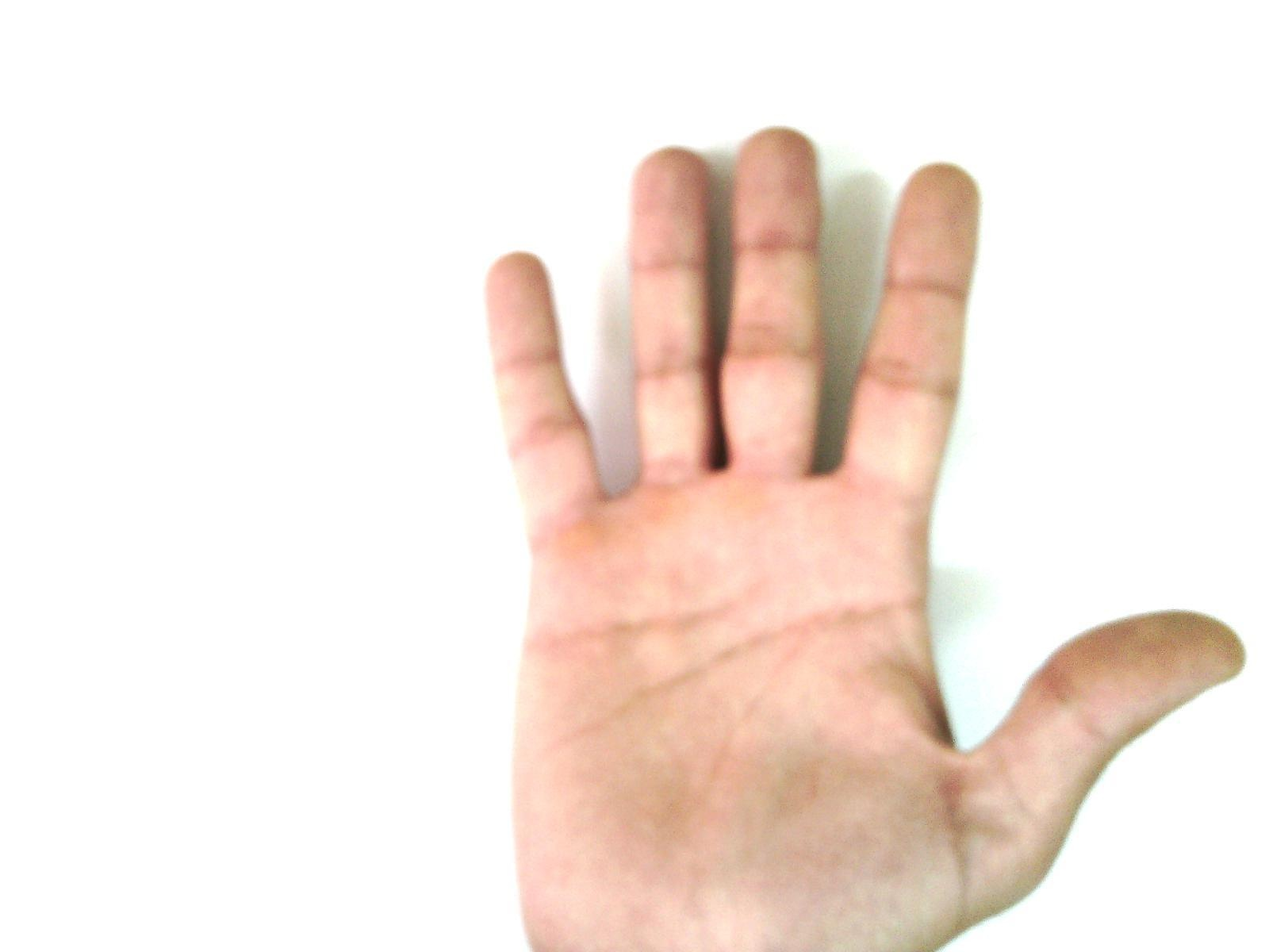open_palm: (479, 125, 1248, 951)
